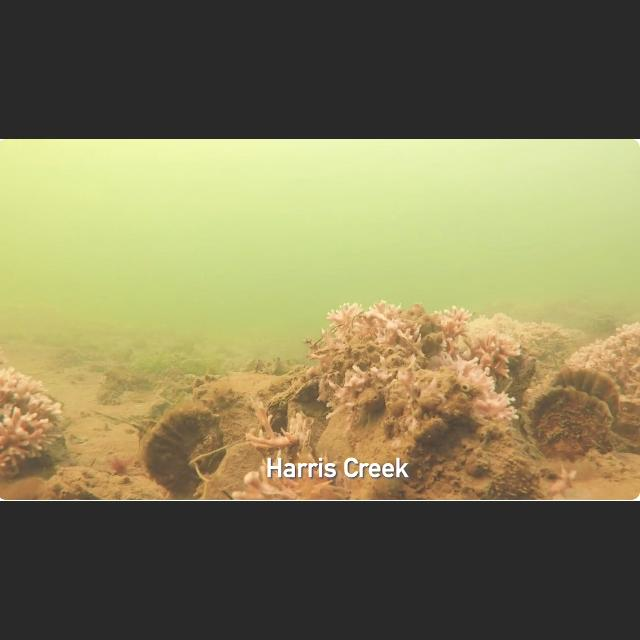Oyster-Closed: (140, 403, 224, 499), (530, 386, 612, 460), (462, 425, 542, 500), (310, 335, 425, 376), (64, 468, 168, 500), (215, 443, 264, 493), (550, 368, 619, 400), (251, 398, 276, 440), (415, 418, 449, 446), (289, 428, 315, 460), (96, 375, 122, 406), (356, 388, 385, 414), (196, 452, 225, 474), (294, 379, 319, 403), (118, 373, 150, 391), (179, 359, 206, 376), (220, 360, 246, 373), (240, 359, 257, 373), (120, 349, 134, 363), (158, 385, 171, 399), (132, 339, 148, 350)
